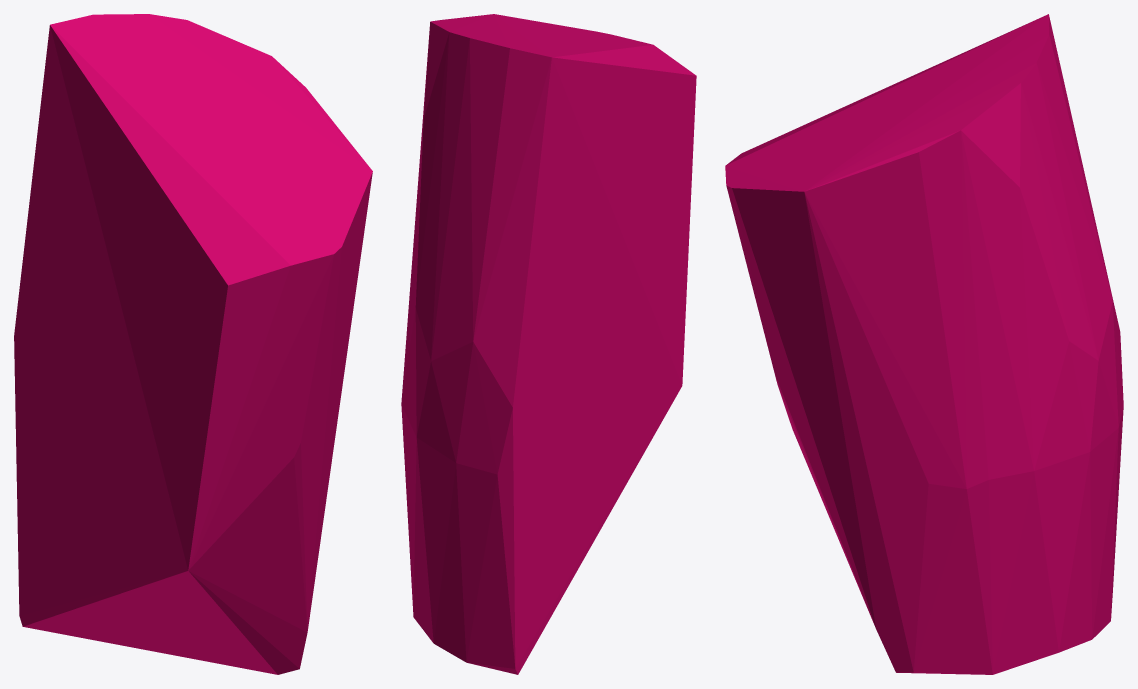
Rendered from arm-L2_convex_piece_002.obj.
3 renders of one model, left to right at view 1: azimuth 30°, elevation 25°; view 2: azimuth 150°, elevation 25°; view 3: azimuth 270°, elevation 25°, orthographic. The views are drawn at different scales.
Size of the model in its own units: 0.0464 by 0.1446 by 0.0896.
